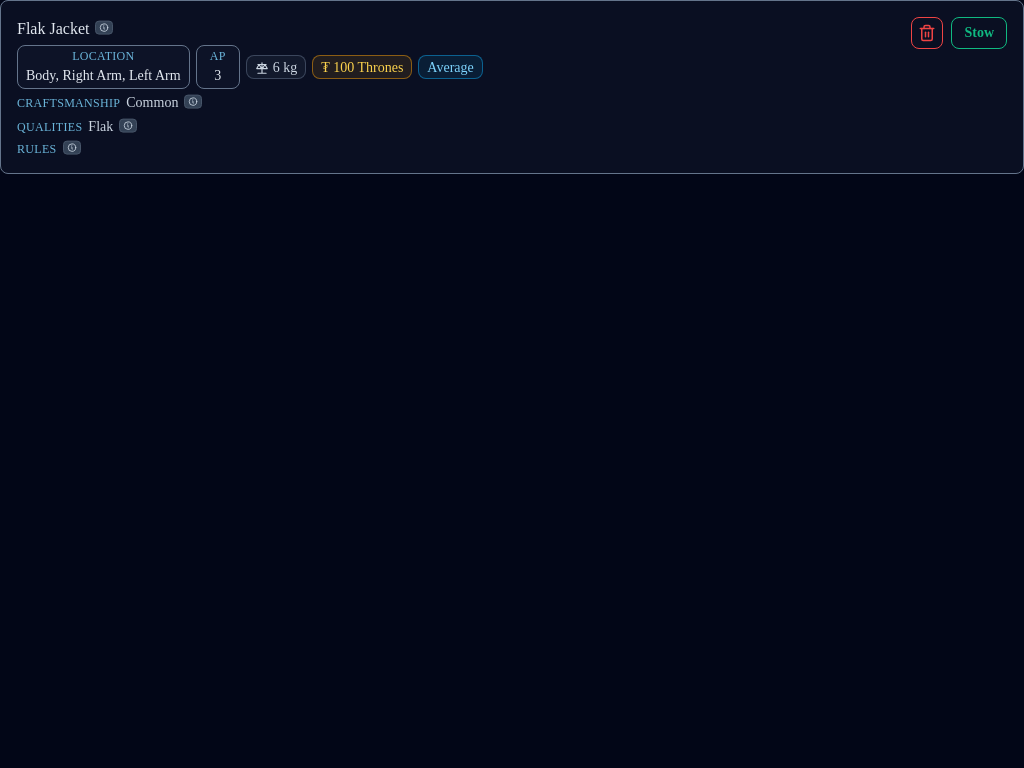
Test: PieceRow shared entry pieces › always has an information icon and says no description was recorded
Click the button named "Show information about Flak Jacket" at point(104, 28), box [95,21,113,35]
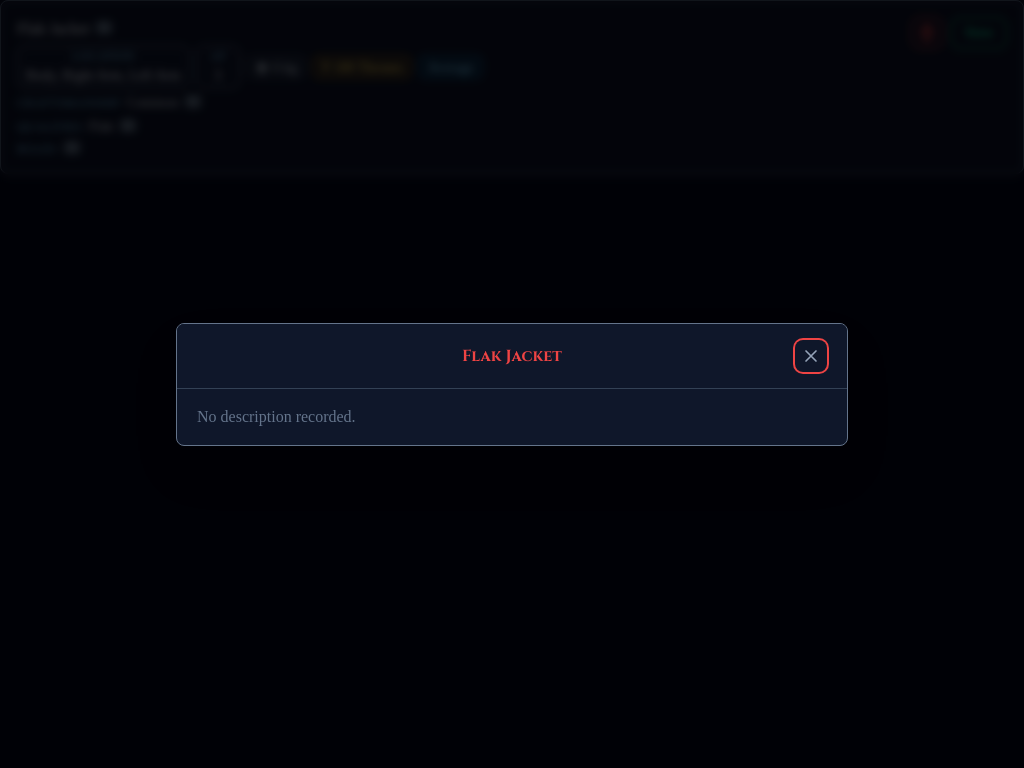
Expected: the text "No description recorded." is shown, [197,408,356,424]
